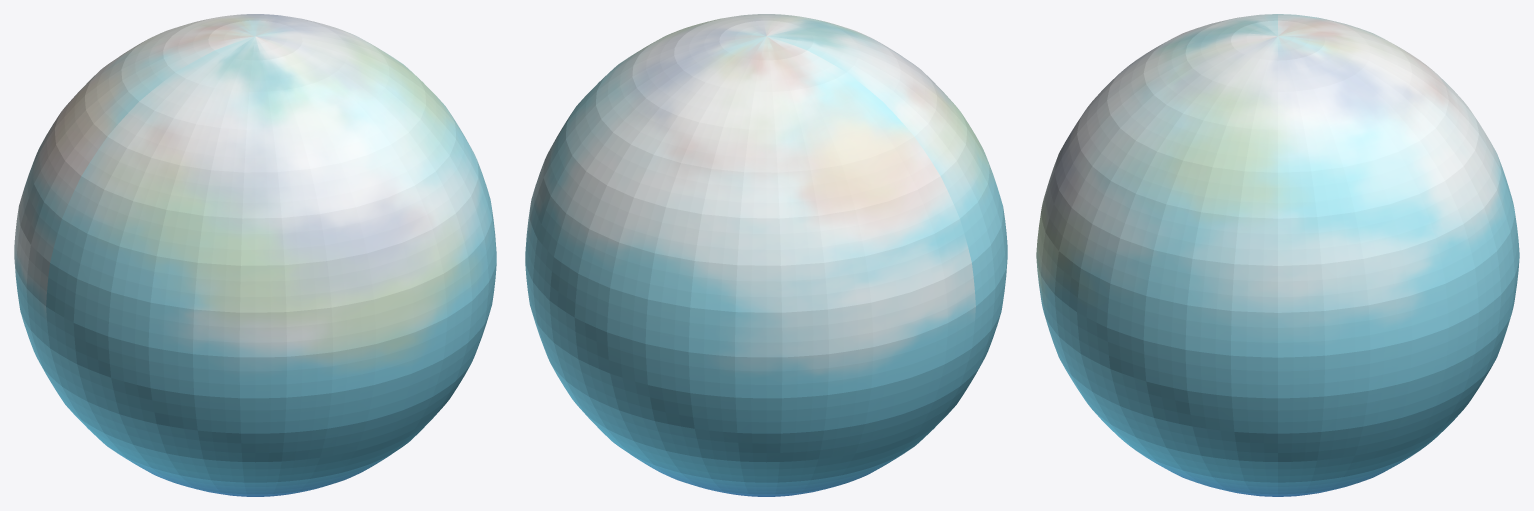
File: skySphere.obj
3 views of the same model, side by side, from view 1: azimuth 30°, elevation 25°; view 2: azimuth 150°, elevation 25°; view 3: azimuth 270°, elevation 25° (orthographic).
Visible parts, largest first — view 1: 球; view 2: 球; view 3: 球.
Boxes of the visible parts, left/top/right/bottom form: 球: left=14, top=14, right=496, bottom=496; 球: left=525, top=14, right=1007, bottom=496; 球: left=1036, top=14, right=1519, bottom=496.
Size of the model in its own units: 400 by 400 by 400.
Materials: 1 (1 with a texture image).
